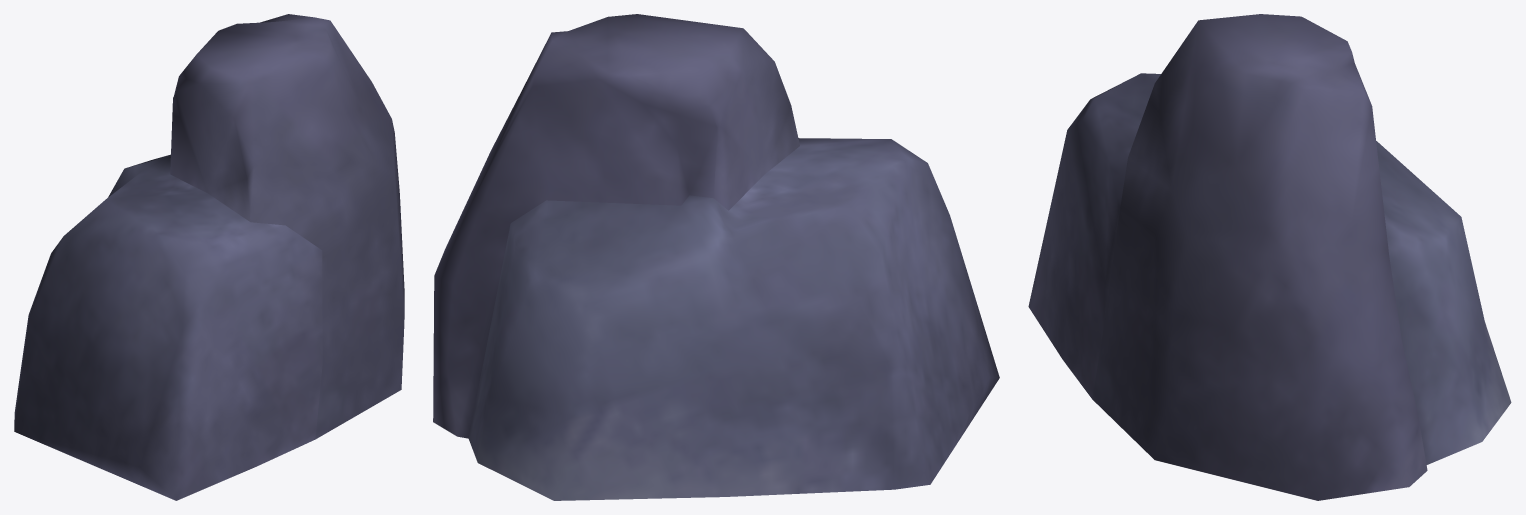
Rendered from Battle_haijie_suishi02d_fbx.fbx.
3 renders of one model, left to right at view 1: azimuth 30°, elevation 25°; view 2: azimuth 150°, elevation 25°; view 3: azimuth 270°, elevation 25°, orthographic. The views are drawn at different scales.
Visible parts, largest first — view 1: Battle_haijie_suishi02d_fbx__1_; view 2: Battle_haijie_suishi02d_fbx__1_; view 3: Battle_haijie_suishi02d_fbx__1_.
Boxes of the visible parts, x1,y1,x2,y2 form: Battle_haijie_suishi02d_fbx__1_: [14, 14, 404, 500]; Battle_haijie_suishi02d_fbx__1_: [433, 14, 999, 500]; Battle_haijie_suishi02d_fbx__1_: [1028, 14, 1511, 500].
Size of the model in its own units: 497 by 382 by 450.
